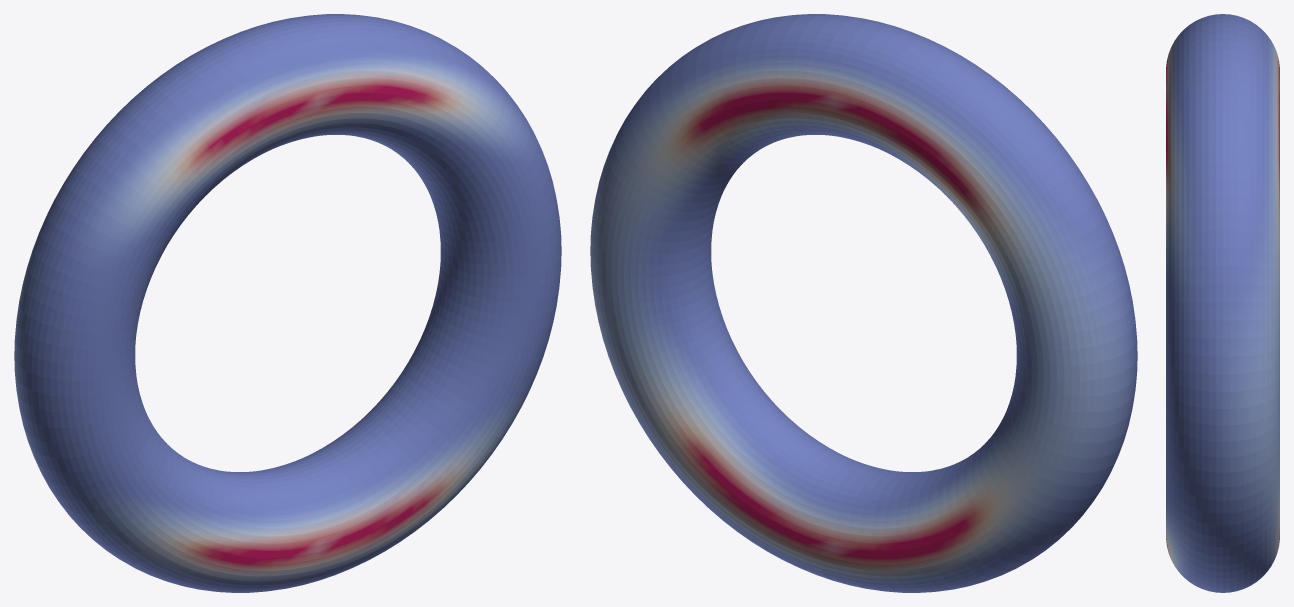
3 renders of one model, left to right at view 1: azimuth 30°, elevation 25°; view 2: azimuth 150°, elevation 25°; view 3: azimuth 270°, elevation 25°, orthographic. The views are drawn at different scales.
Visible parts, largest first — view 1: world; view 2: world; view 3: world.
Part boxes in pixels (<box>): world: <box>14,14,561,592</box>; world: <box>590,14,1137,592</box>; world: <box>1166,14,1279,592</box>.
Size of the model in its own units: 18.27 by 18.27 by 3.59.
